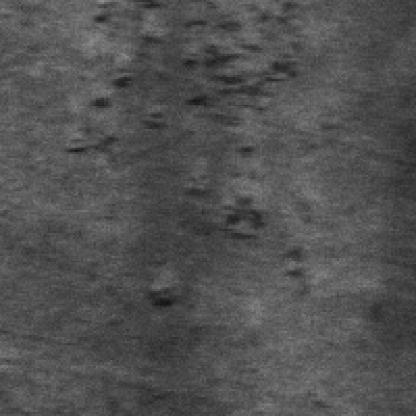rolled-in_scale: (92, 0, 319, 137), (144, 181, 322, 310)
